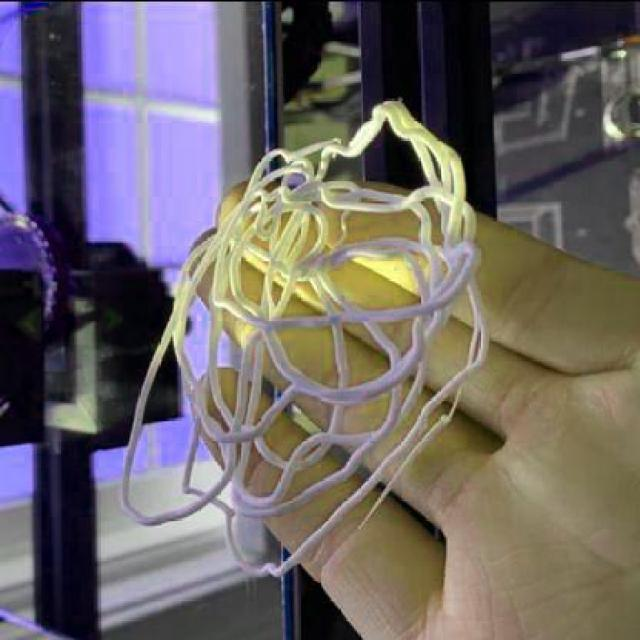Spaghetti: (114, 95, 495, 579)
